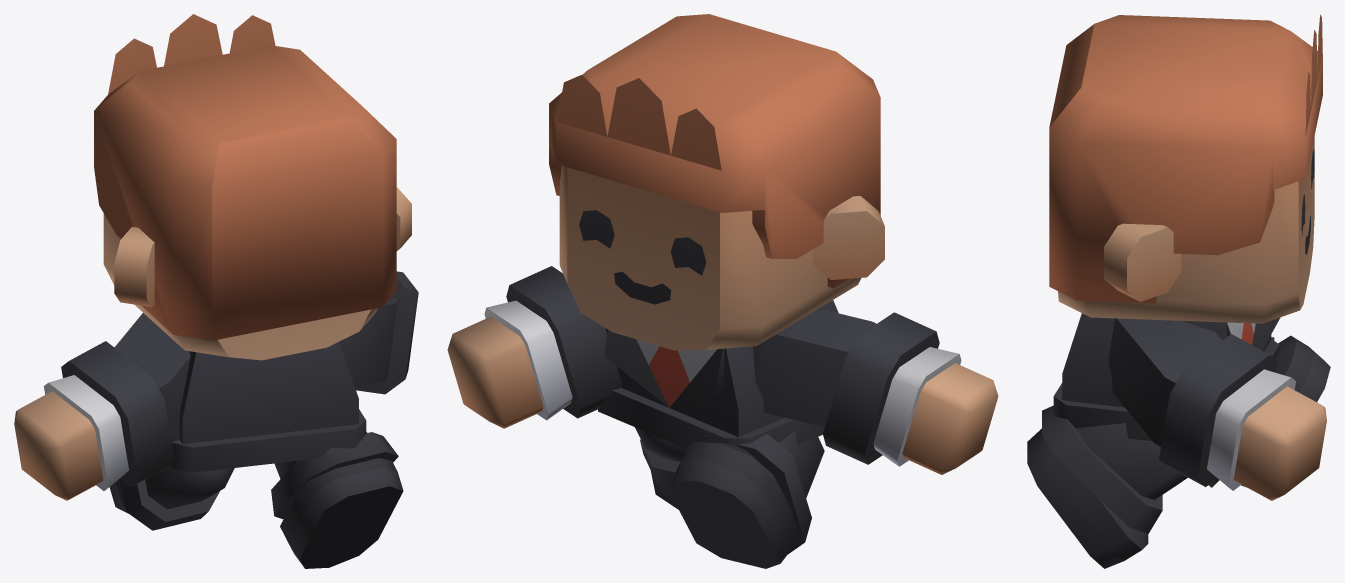
File: hand_2_w1.fbx
3 views of the same model, side by side, from view 1: azimuth 30°, elevation 25°; view 2: azimuth 150°, elevation 25°; view 3: azimuth 270°, elevation 25° (orthographic). The views are drawn at different scales.
Parts seen in each view (by area): view 1: body-mesh; view 2: body-mesh; view 3: body-mesh.
Part boxes in pixels (x1,y1,x2,y2): body-mesh: [14, 14, 418, 568]; body-mesh: [447, 14, 998, 568]; body-mesh: [1027, 14, 1330, 568].
Size of the model in its own units: 0.9326 by 1 by 0.5353.
